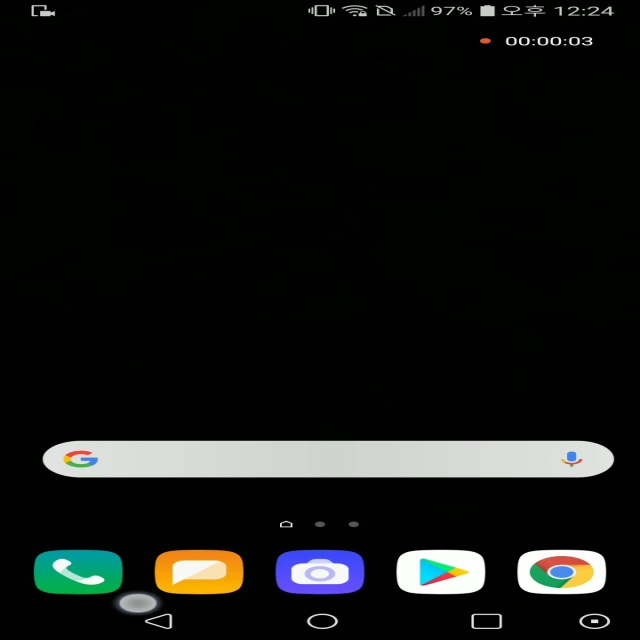Cursor: (116, 593, 160, 615)
